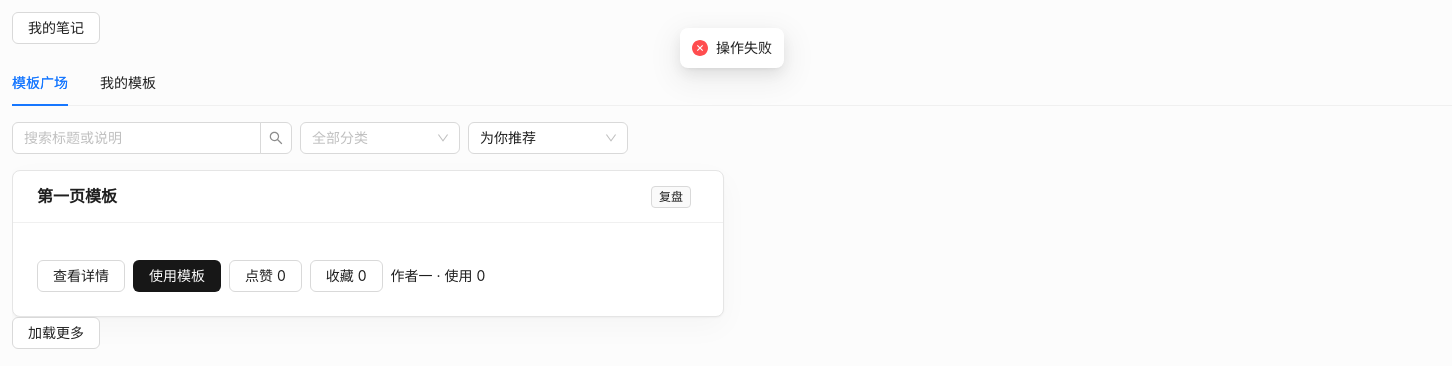
loads the next signed-cursor page
This screenshot has width=1452, height=366.
Expected: the text "第一页模板" is shown, top-left (37, 186), bottom-right (117, 206)
Click the button "加载更多": point(56, 333) top-left (12, 317), bottom-right (100, 349)
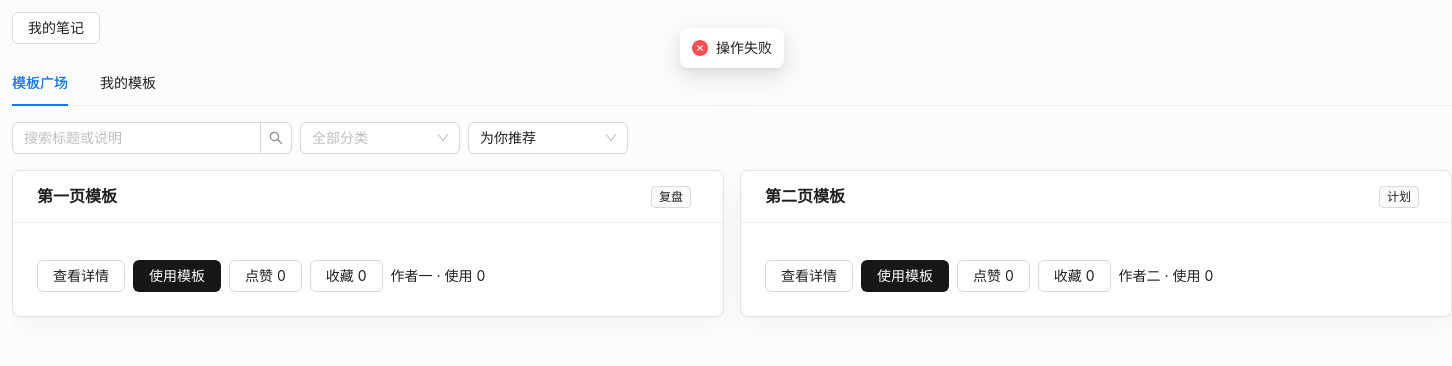
Expected: the text "第二页模板" is shown, top-left (765, 186), bottom-right (845, 206)
